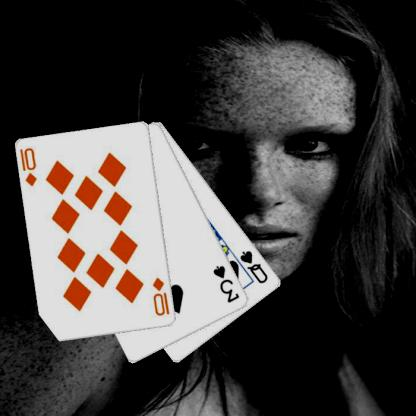10D: (150, 275, 172, 318), (18, 145, 38, 188)
3S: (210, 263, 242, 304)
QS: (237, 248, 270, 285)
